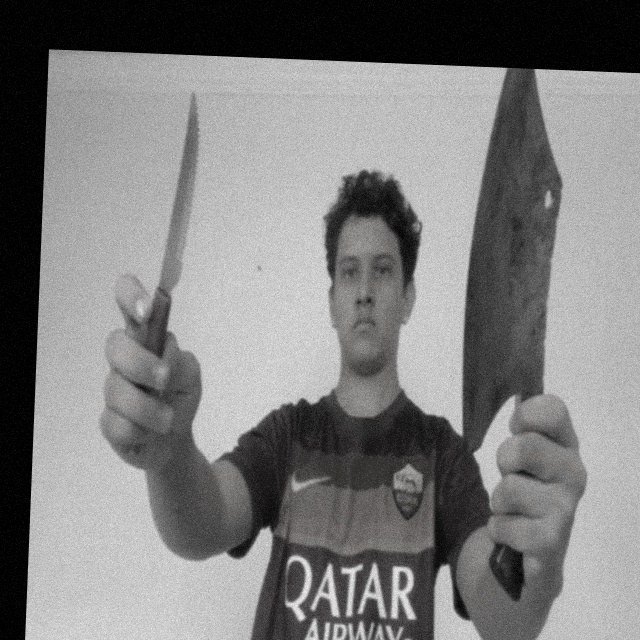Sharp-Object: (456, 67, 572, 458), (153, 87, 206, 290)
